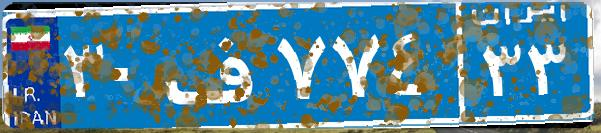0: (110, 28, 158, 105)
3: (57, 26, 110, 107), (475, 38, 525, 113), (525, 38, 570, 115)
4: (385, 28, 445, 110)
7: (273, 28, 330, 110), (330, 28, 385, 110)
ف: (158, 15, 273, 115)
